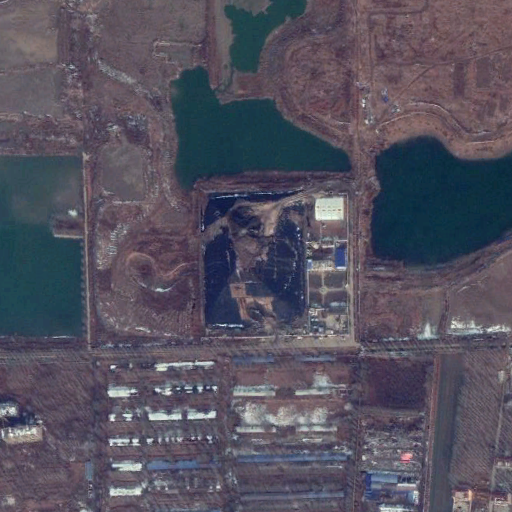lf: (198, 192, 307, 334)
